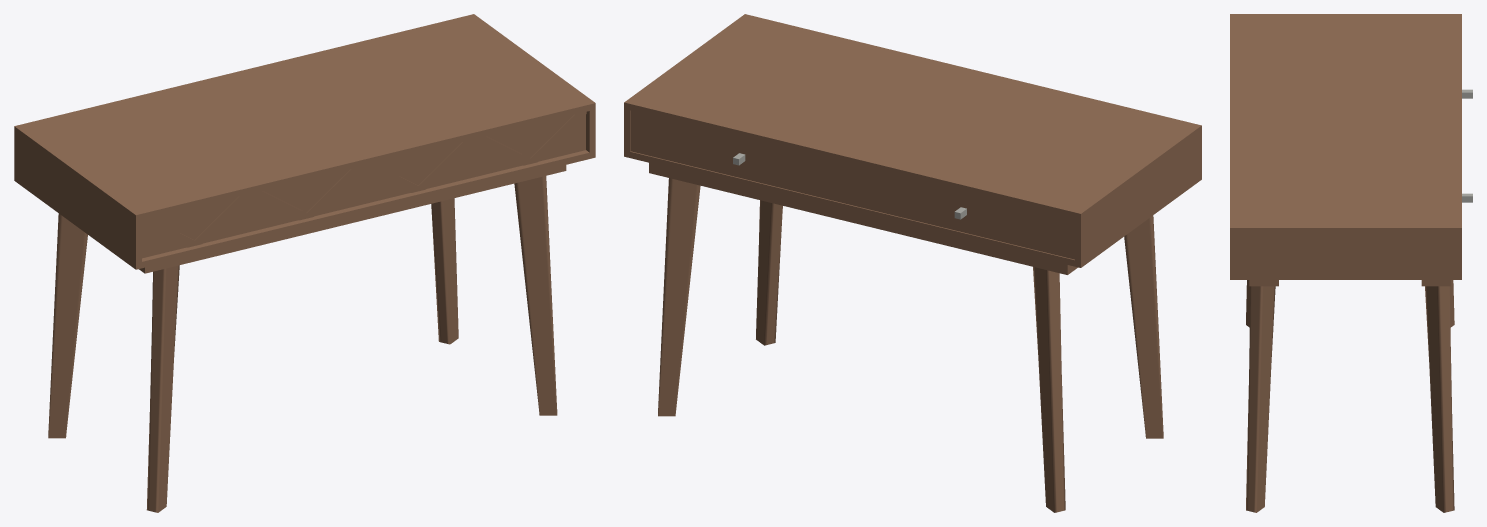
The picture shows the model from 3 angles, left to right: view 1: azimuth 30°, elevation 25°; view 2: azimuth 150°, elevation 25°; view 3: azimuth 270°, elevation 25°; orthographic projection. The views are drawn at different scales.
Visible parts, largest first — view 1: worktable; view 2: worktable; view 3: worktable.
Part boxes in pixels (x1=…): worktable: x1=14, y1=14, x2=595, y2=512; worktable: x1=624, y1=14, x2=1201, y2=512; worktable: x1=1230, y1=14, x2=1472, y2=512.
Bounding box in the file's own units: 1.2 × 0.776 × 0.576.
